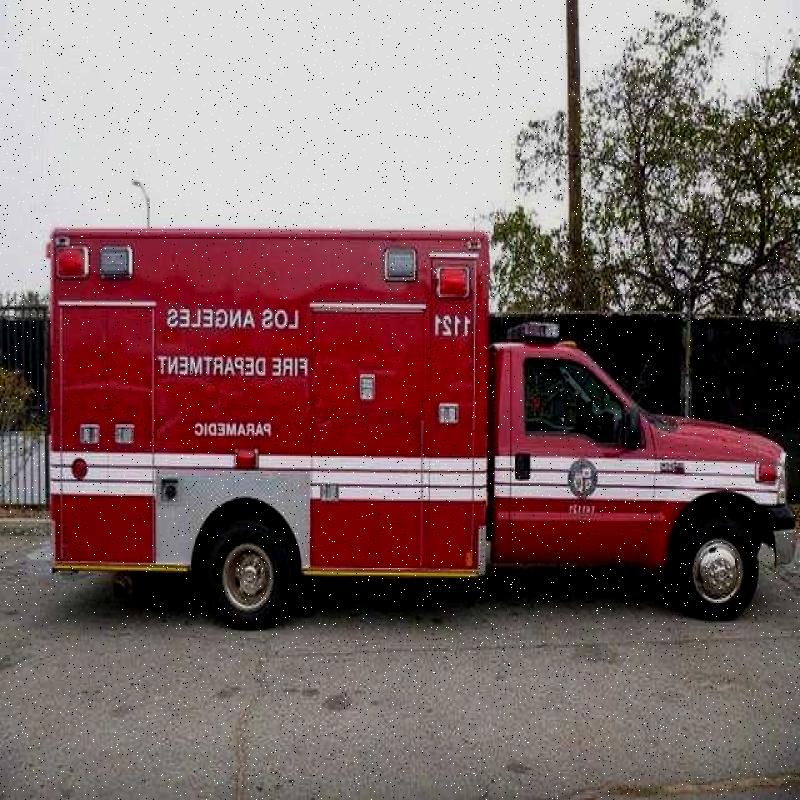AmbulanceSiren: (51, 243, 138, 282), (422, 252, 472, 313)
